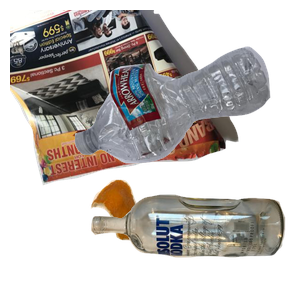glass: (88, 192, 300, 300)
paper: (10, 10, 241, 188)
plastic: (72, 44, 300, 200)
trash: (88, 177, 251, 300)
